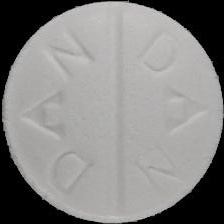0591-5307: (0, 0, 224, 224)
